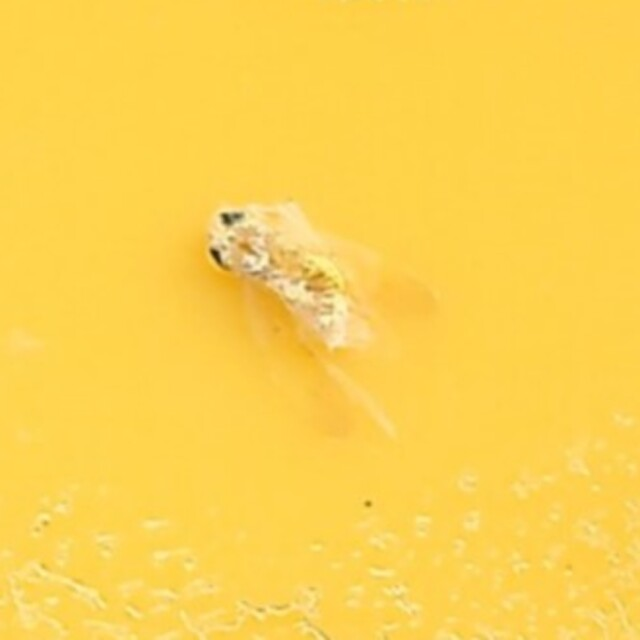Hemiptera: (194, 196, 446, 444)
